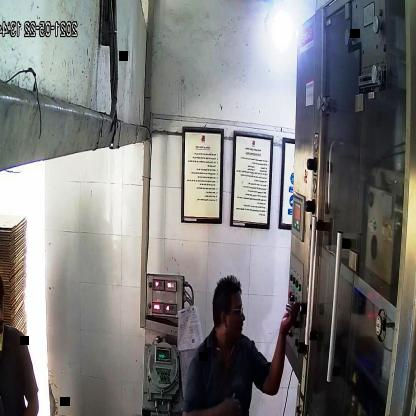goggles: (217, 302, 246, 323)
no_goggles: (0, 295, 7, 319)
